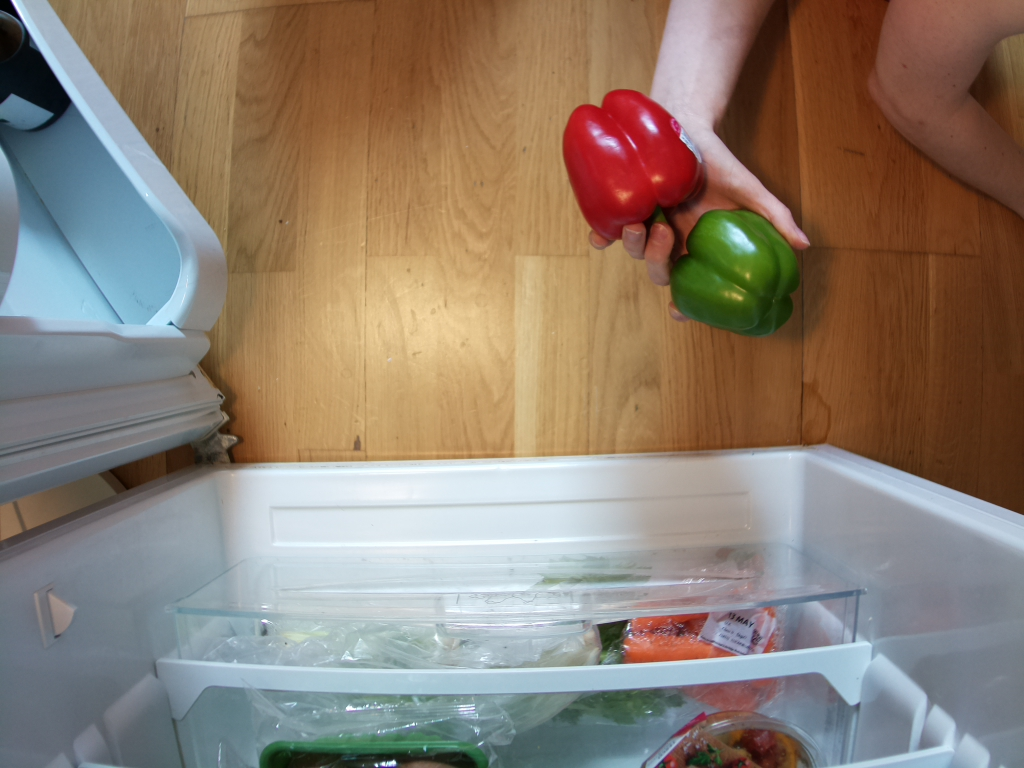pepper: (560, 86, 708, 257), (668, 207, 798, 335)
